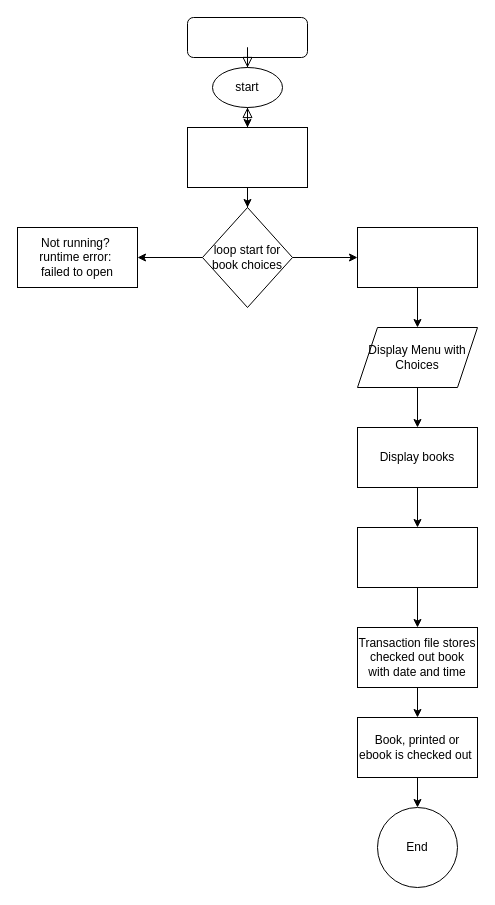
Image size: 495x905. Some labels were removed from this diagram. Each missing label, with the centre of its shape:
Choose book: genre, author, title: (417,257)
Open Library and Main: (247,37)
Patron checks out book, stored with patron ID: (417,557)
Process : Library::loadData() (loads books and patrons from the file): (247,157)
